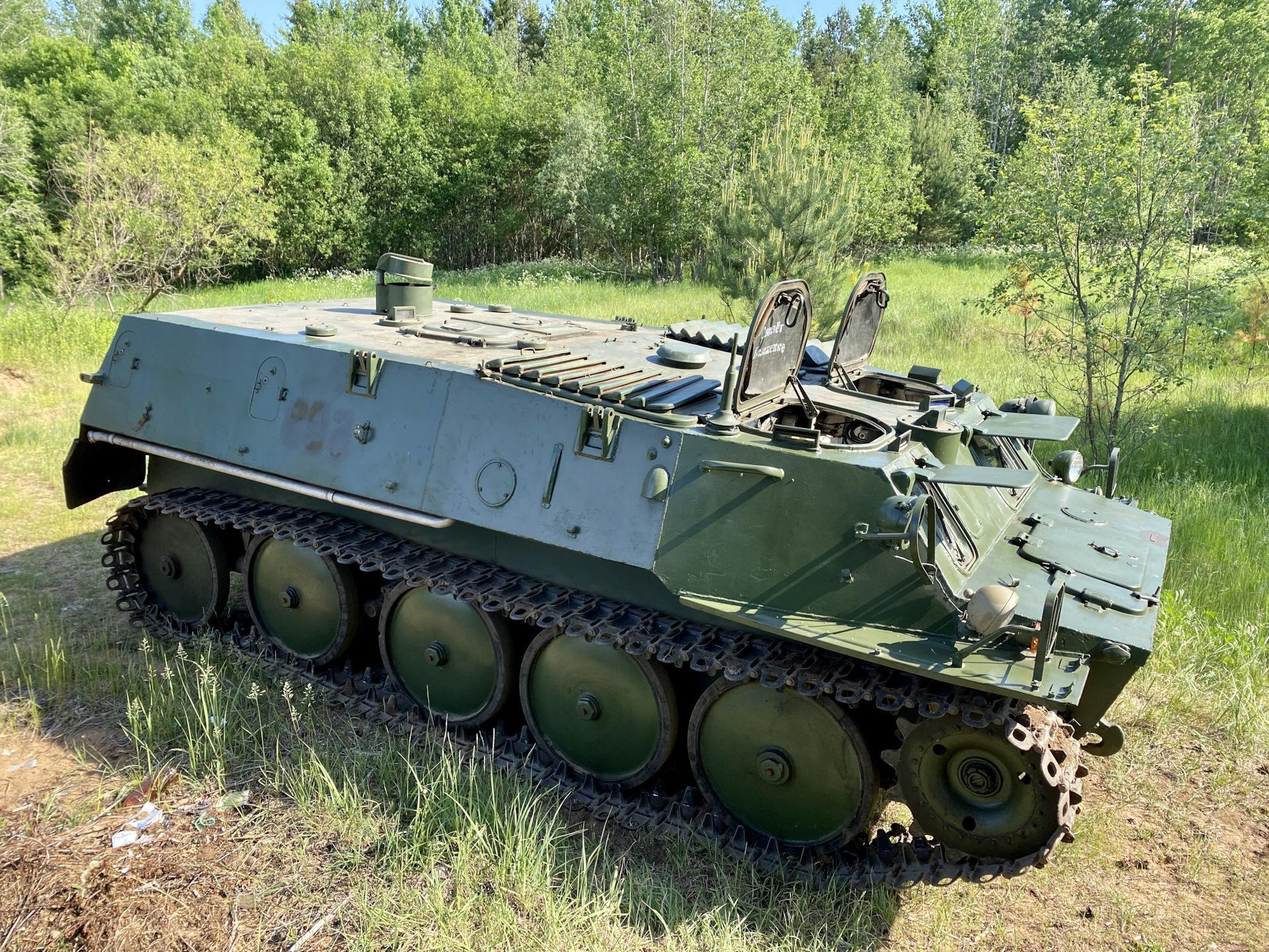tank: (61, 249, 1176, 896)
